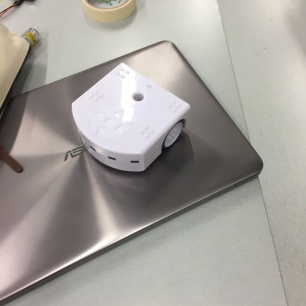thymio: (60, 57, 194, 183)
